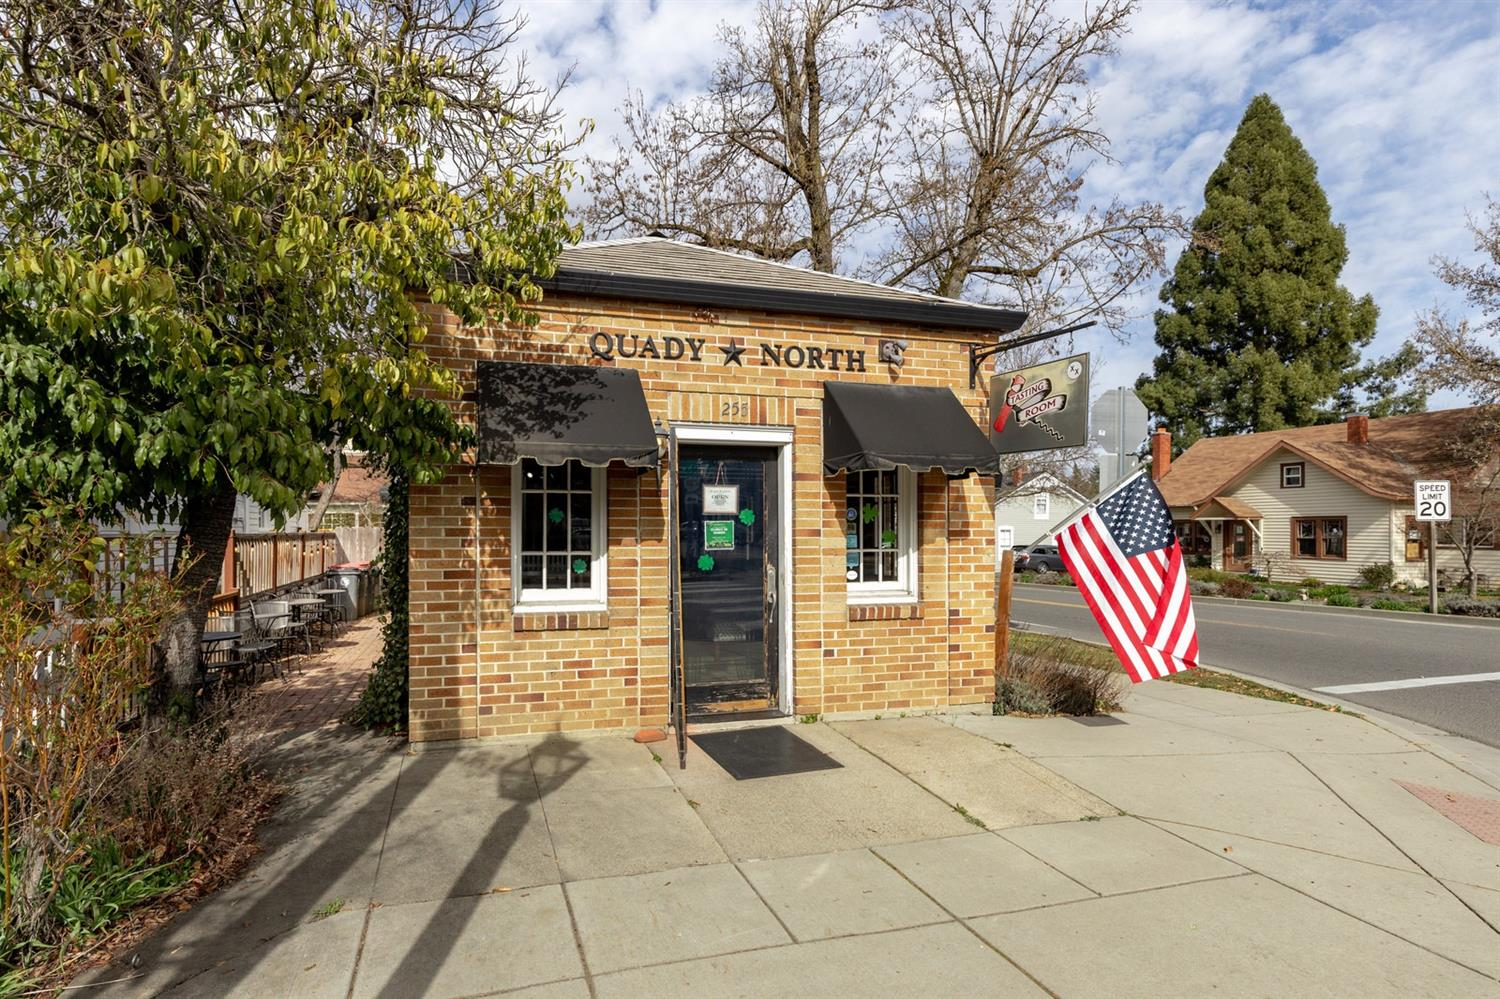tree: (1, 1, 565, 734), (1134, 91, 1383, 436)
